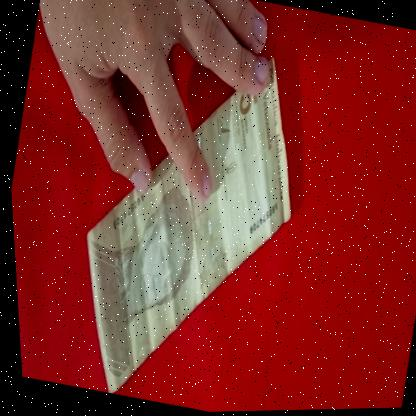five-front-vef: (40, 23, 329, 415)
